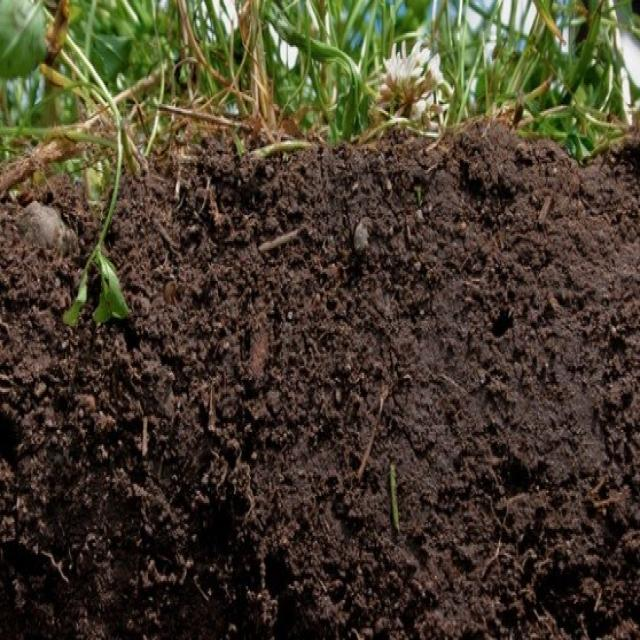suelo_humedo: (54, 44, 601, 559)
